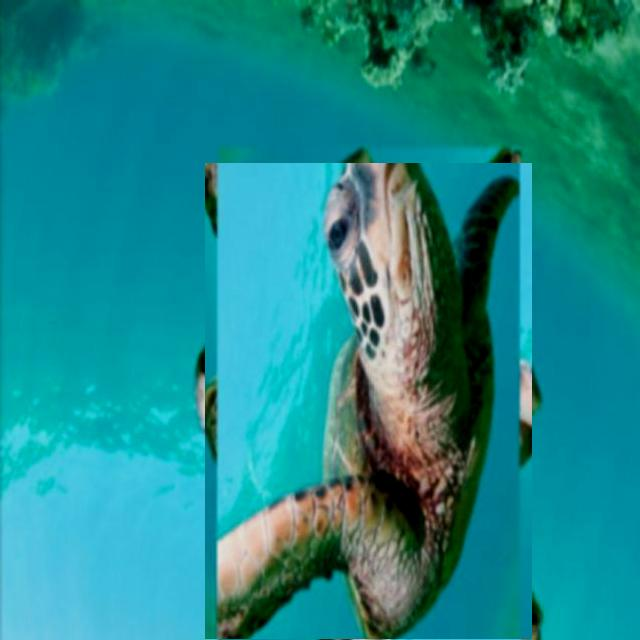Sea turtle: (206, 163, 534, 639)
